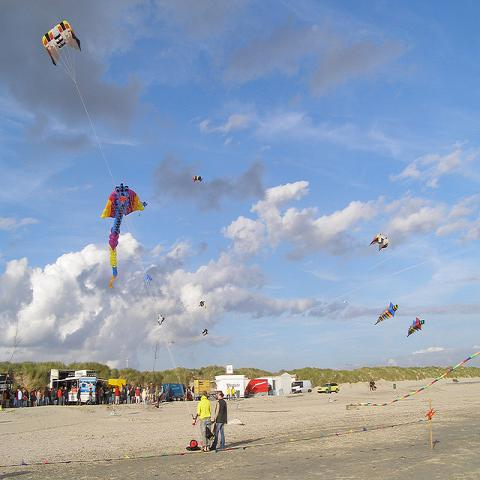car: (317, 382, 340, 394)
truck: (159, 383, 185, 401), (292, 380, 312, 393)
